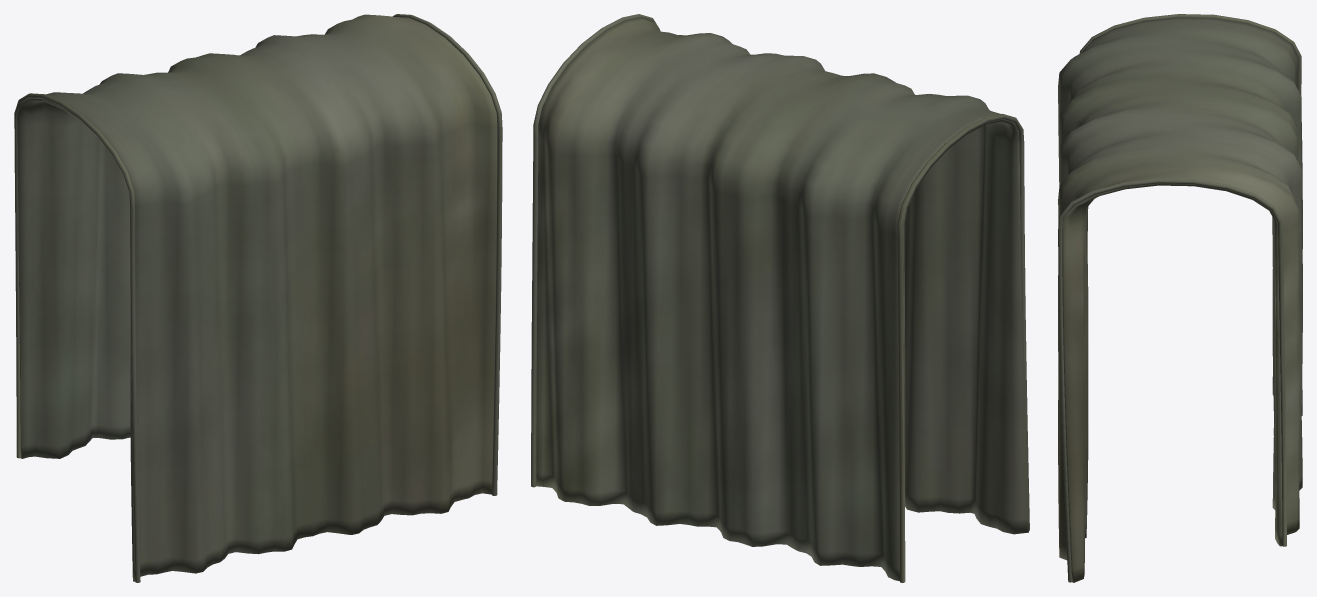
File: counter_items__sink_drape.glb
The picture shows the model from 3 angles, left to right: view 1: azimuth 30°, elevation 25°; view 2: azimuth 150°, elevation 25°; view 3: azimuth 270°, elevation 25°; orthographic projection. The views are drawn at different scales.
Parts seen in each view (by area): view 1: body; view 2: body; view 3: body.
Boxes of the visible parts, box(x1,y1,x2,y2) form: body: box(14, 14, 502, 582); body: box(531, 14, 1029, 582); body: box(1058, 14, 1302, 582).
Bounding box in the file's own units: 0.1457 × 0.163 × 0.0899.
1 material, 1 textured.
